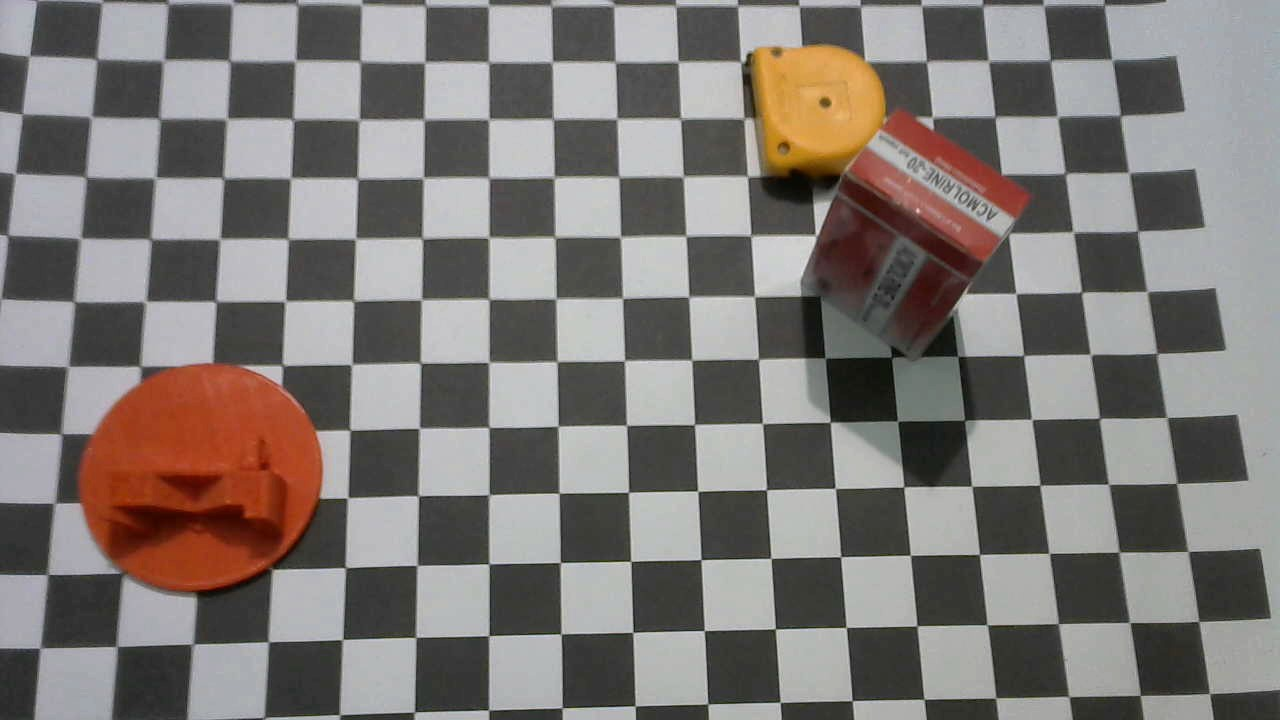blue: (742, 42, 886, 183)
green: (76, 361, 324, 593)
red: (805, 110, 1031, 360)
